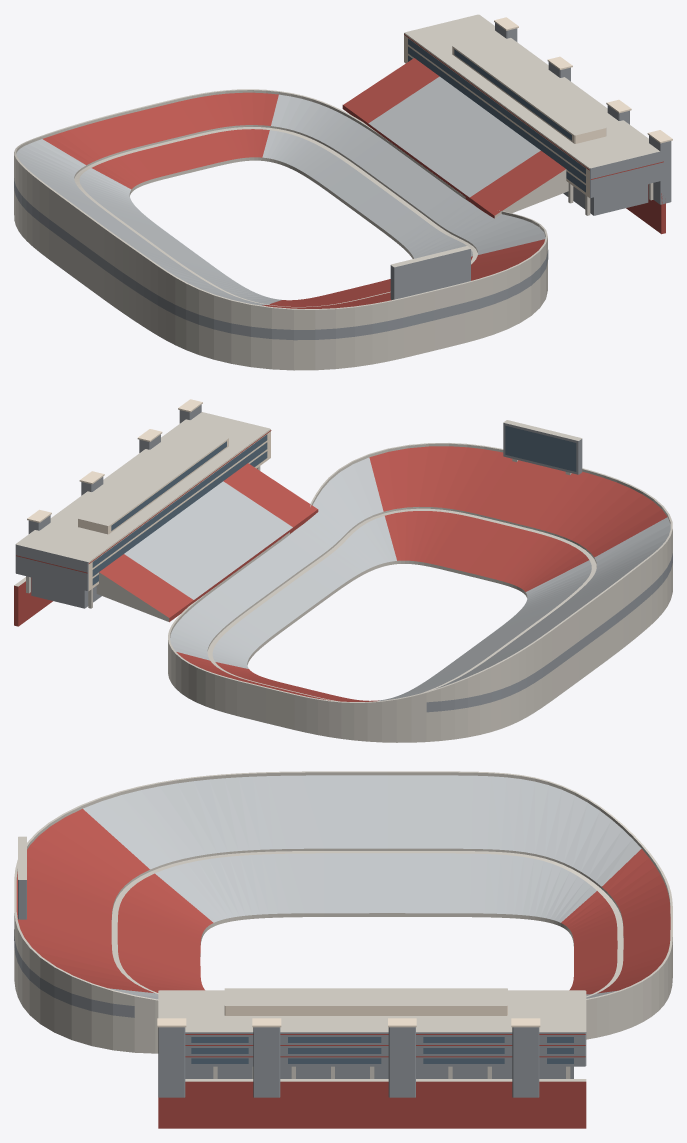
Rendered from ral-carter-finley-stadium.glb.
3 views of the same model, one above another, from view 1: azimuth 30°, elevation 25°; view 2: azimuth 150°, elevation 25°; view 3: azimuth 270°, elevation 25° (orthographic). The views are drawn at different scales.
Visible parts, largest first — view 1: Carter–Finley Stadium; view 2: Carter–Finley Stadium; view 3: Carter–Finley Stadium.
Boxes of the visible parts, x1=… form: Carter–Finley Stadium: x1=14, y1=14, x2=672, y2=370; Carter–Finley Stadium: x1=14, y1=399, x2=672, y2=742; Carter–Finley Stadium: x1=14, y1=771, x2=672, y2=1128.
Size of the model in its own units: 219 by 39.1 by 219.
